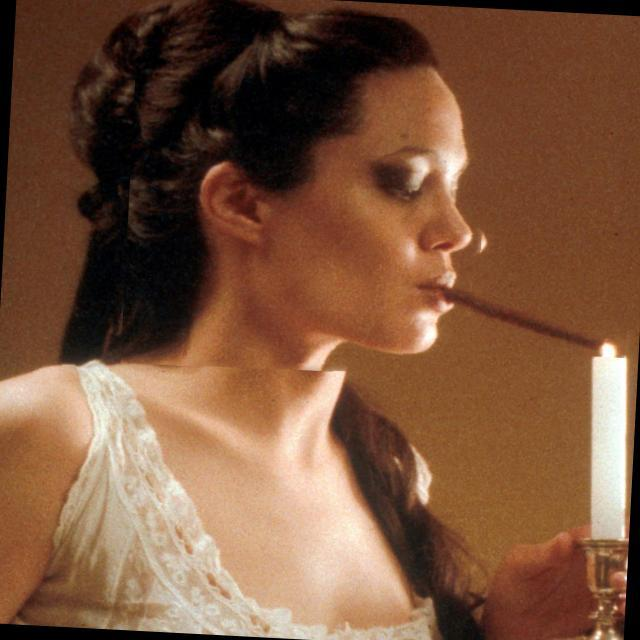cigarette: (442, 269, 632, 358)
